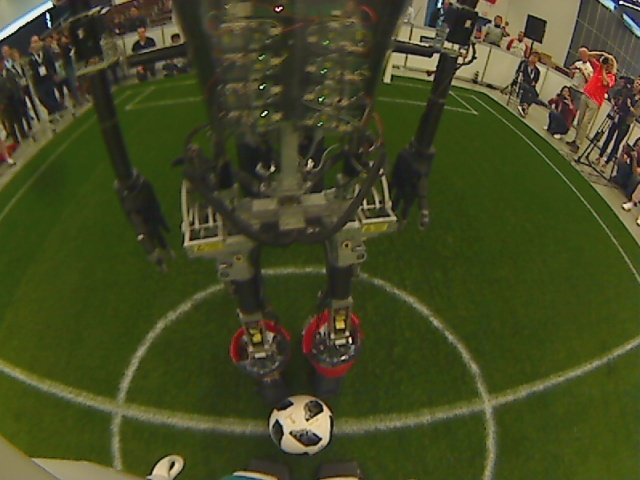ball: (265, 391, 339, 460)
